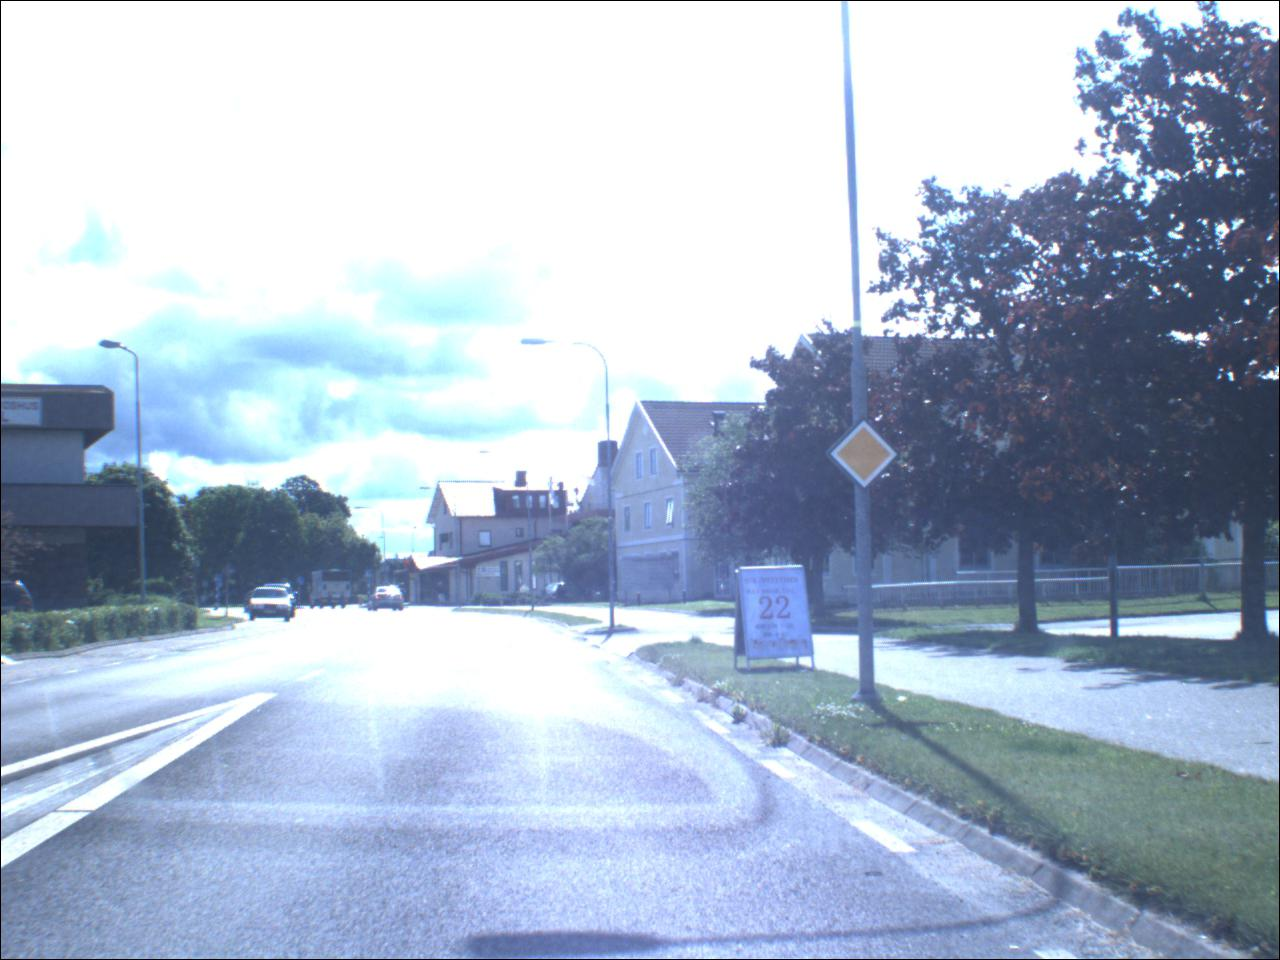PRIORITY_ROAD: (827, 417, 901, 493)
